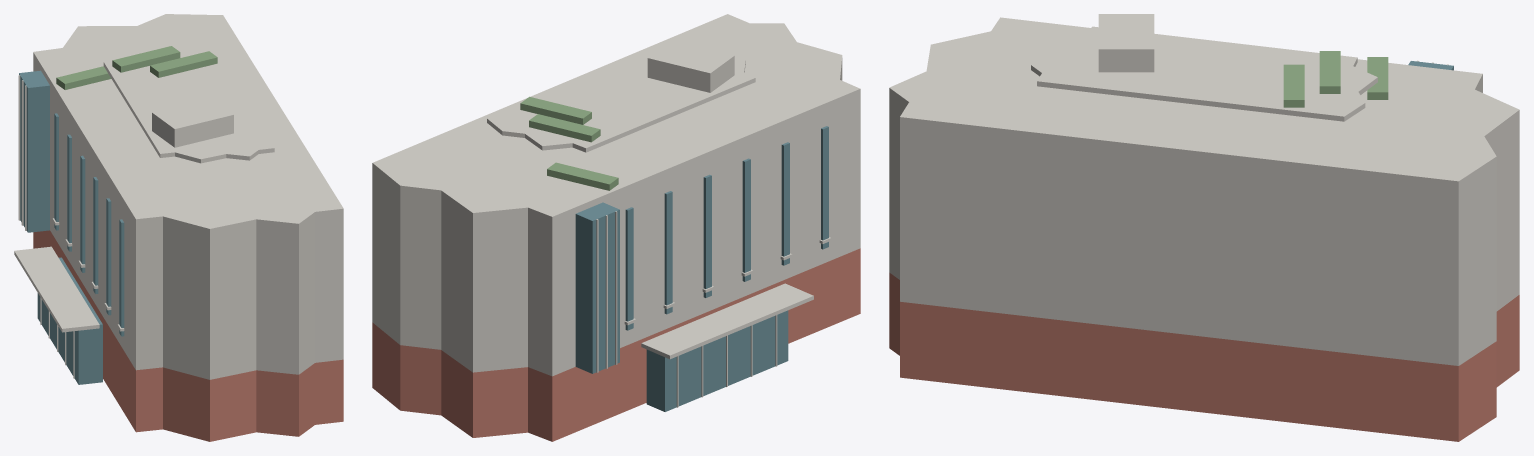
File: lui.glb
The picture shows the model from 3 angles, left to right: view 1: azimuth 30°, elevation 25°; view 2: azimuth 150°, elevation 25°; view 3: azimuth 270°, elevation 25°; orthographic projection. The views are drawn at different scales.
Parts seen in each view (by area): view 1: LCW_tower, LCW_roof_slab, LCW_podium, LCW_roof, LCW_corner_glass, LCW_canopy, LCW_roof_plant, LCW_atrium, LCW_band, LCW_planter_1, LCW_planter_2, LCW_planter_0 (+8 smaller); view 2: LCW_tower, LCW_roof_slab, LCW_podium, LCW_roof, LCW_atrium, LCW_corner_glass, LCW_canopy, LCW_roof_plant, LCW_band, LCW_planter_1, LCW_planter_0, LCW_slit_1 (+6 smaller); view 3: LCW_tower, LCW_podium, LCW_roof_slab, LCW_roof, LCW_band, LCW_roof_plant, LCW_planter_2, LCW_planter_1, LCW_planter_0.
Boxes of the visible parts, x1=… form: LCW_tower: x1=33, y1=59, x2=343, y2=379; LCW_roof_slab: x1=33, y1=14, x2=343, y2=234; LCW_podium: x1=33, y1=230, x2=343, y2=441; LCW_roof: x1=103, y1=41, x2=274, y2=163; LCW_corner_glass: x1=19, y1=70, x2=49, y2=232; LCW_canopy: x1=14, y1=246, x2=99, y2=332; LCW_roof_plant: x1=152, y1=98, x2=233, y2=147; LCW_atrium: x1=37, y1=257, x2=102, y2=384; LCW_band: x1=50, y1=226, x2=343, y2=379; LCW_planter_1: x1=112, y1=46, x2=180, y2=72; LCW_planter_2: x1=150, y1=51, x2=217, y2=77; LCW_planter_0: x1=56, y1=66, x2=111, y2=89; LCW_tower: x1=372, y1=64, x2=860, y2=376; LCW_roof_slab: x1=372, y1=14, x2=860, y2=223; LCW_podium: x1=372, y1=248, x2=860, y2=441; LCW_roof: x1=487, y1=37, x2=755, y2=152; LCW_atrium: x1=646, y1=310, x2=788, y2=411; LCW_corner_glass: x1=575, y1=202, x2=619, y2=373; LCW_canopy: x1=641, y1=283, x2=813, y2=359; LCW_roof_plant: x1=647, y1=40, x2=734, y2=92; LCW_band: x1=372, y1=243, x2=860, y2=375; LCW_planter_1: x1=529, y1=114, x2=600, y2=142; LCW_planter_0: x1=547, y1=162, x2=618, y2=190; LCW_slit_1: x1=625, y1=207, x2=633, y2=330; LCW_tower: x1=889, y1=82, x2=1519, y2=365; LCW_podium: x1=889, y1=272, x2=1519, y2=441; LCW_roof_slab: x1=889, y1=17, x2=1519, y2=188; LCW_roof: x1=1031, y1=26, x2=1377, y2=121; LCW_band: x1=889, y1=270, x2=1519, y2=365; LCW_roof_plant: x1=1098, y1=14, x2=1154, y2=72; LCW_planter_2: x1=1283, y1=64, x2=1304, y2=107; LCW_planter_1: x1=1319, y1=51, x2=1340, y2=93; LCW_planter_0: x1=1367, y1=57, x2=1388, y2=99.
Bounding box in the file's own units: 29.29 × 24.6 × 45.17.
